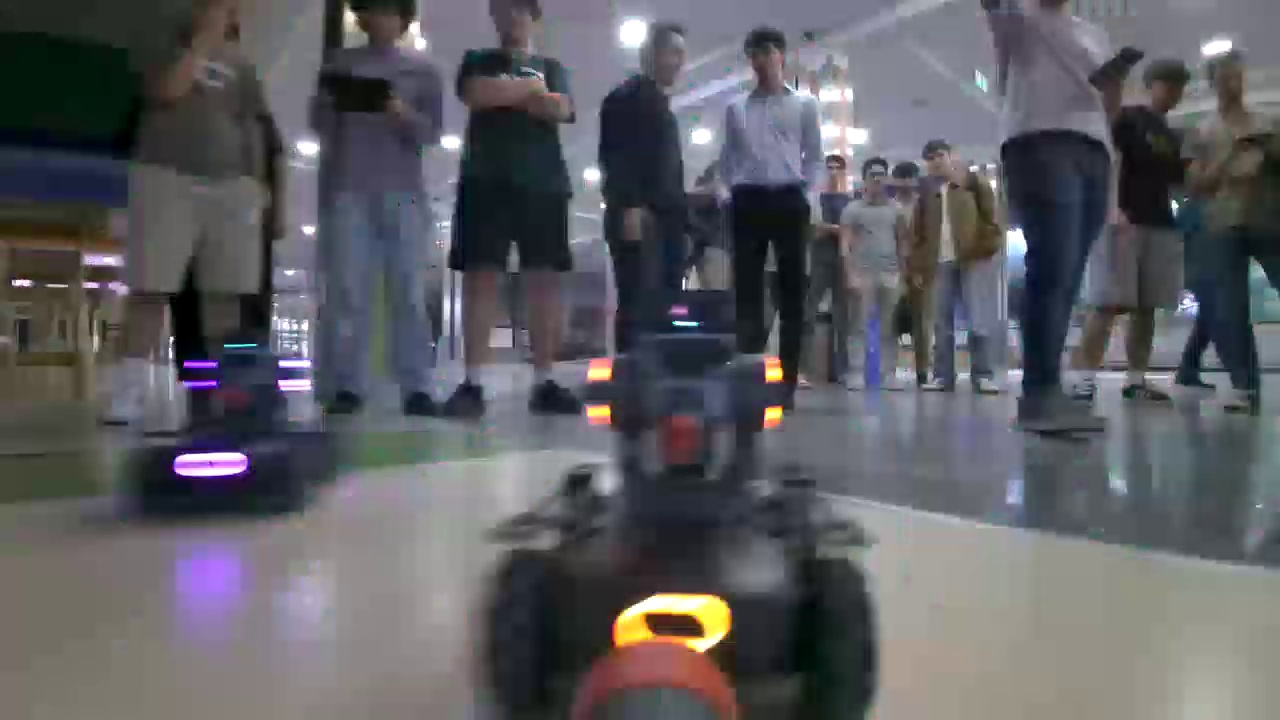robot: (477, 288, 887, 715), (126, 341, 336, 518)
